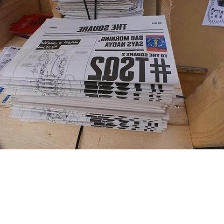news_paper: (0, 11, 182, 133)
